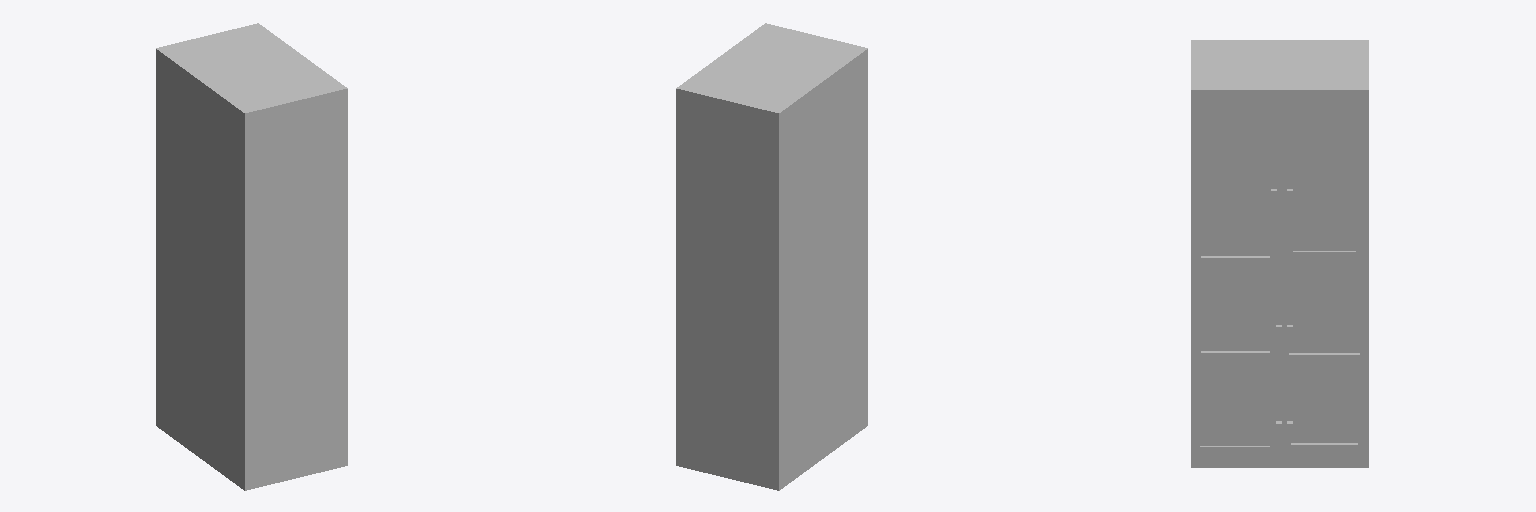
The model's file is Cupboartd.obj.
The picture shows the model from 3 angles: view 1: azimuth 30°, elevation 25°; view 2: azimuth 150°, elevation 25°; view 3: azimuth 270°, elevation 25°; orthographic projection.
Visible parts, largest first — view 1: Cube; view 2: Cube; view 3: Cube.
Boxes of the visible parts, x1,y1,x2,y2 form: Cube: [156, 23, 347, 490]; Cube: [676, 23, 867, 490]; Cube: [1191, 40, 1368, 467].
Size of the model in its own units: 4.34 by 14 by 6.